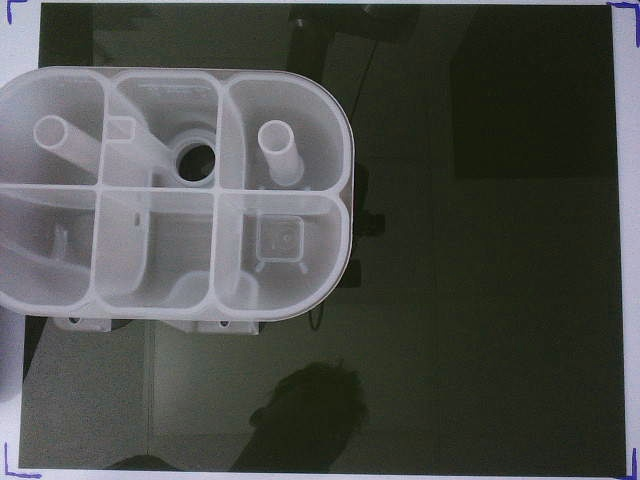reservoir_transparent_Under: (1, 66, 356, 336)
